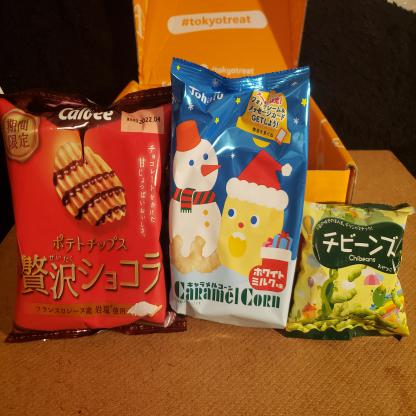potatochip: (0, 76, 189, 343)
